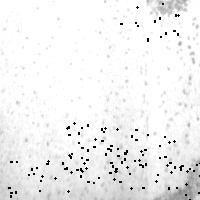pitted_surface: (5, 11, 72, 192), (88, 1, 147, 198), (161, 17, 199, 153), (66, 122, 125, 182), (117, 129, 173, 187), (8, 160, 67, 200), (120, 0, 177, 40), (156, 158, 200, 199), (166, 162, 200, 200), (144, 1, 190, 20)
